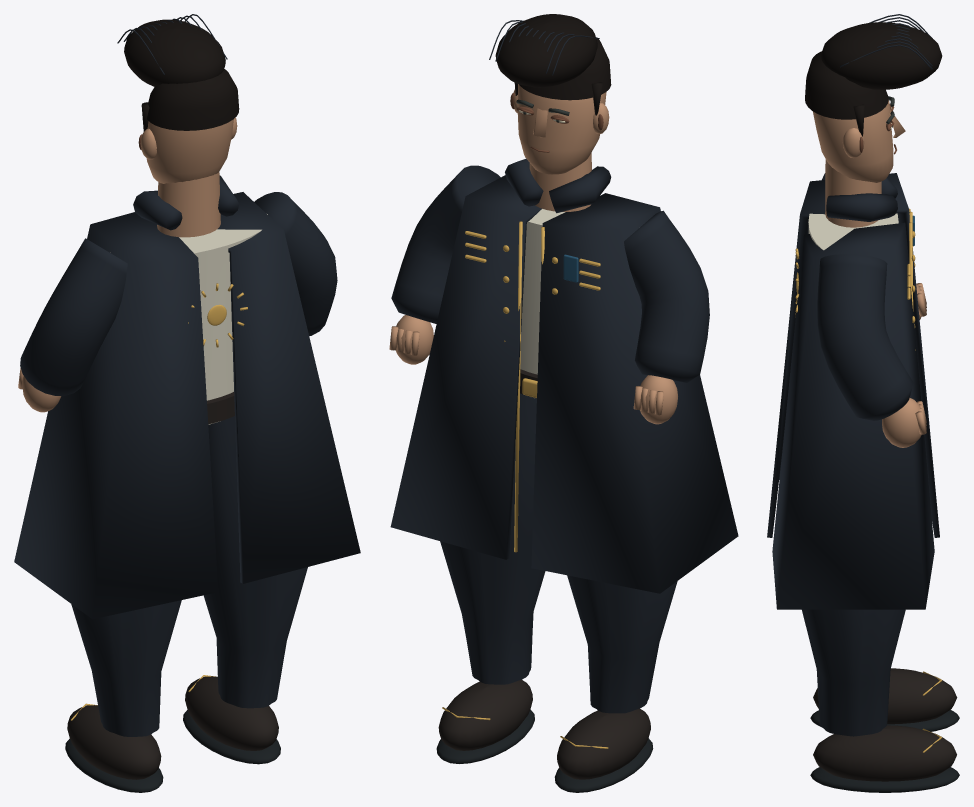
The picture shows the model from 3 angles, left to right: view 1: azimuth 30°, elevation 25°; view 2: azimuth 150°, elevation 25°; view 3: azimuth 270°, elevation 25°; orthographic projection.
Parts seen in each view (by area): view 1: YG_TokkoCoat, YG_TokkoCoat.001, YG_Bontan.001, YG_JacketSleeve, YG_Bontan, YG_Undershirt, YG_Pompadour, YG_JacketSleeve.001, YG_SlickHair, YG_Loafer.001, YG_Loafer, YG_Face (+6 smaller); view 2: YG_TokkoCoat, YG_TokkoCoat.001, YG_Bontan.001, YG_JacketSleeve, YG_Bontan, YG_JacketSleeve.001, YG_Pompadour, YG_Loafer, YG_Face, YG_Loafer.001, YG_Undershirt, YG_SlickHair (+8 smaller); view 3: YG_TokkoCoat.001, YG_JacketSleeve.001, YG_Bontan.001, YG_Loafer.001, YG_Pompadour, YG_TokkoCoat, YG_Face, YG_SlickHair, YG_Loafer, YG_ShoeSole.001, YG_StandingCollar.001, YG_Neck (+4 smaller).
Boxes of the visible parts, box(x1,y1,x2,y2) form: YG_TokkoCoat: box(14, 212, 218, 619); YG_TokkoCoat.001: box(217, 192, 360, 583); YG_Bontan.001: box(203, 416, 307, 708); YG_JacketSleeve: box(20, 238, 127, 395); YG_Bontan: box(71, 600, 181, 736); YG_Undershirt: box(110, 214, 267, 424); YG_Pompadour: box(124, 19, 225, 86); YG_JacketSleeve.001: box(254, 192, 337, 335); YG_SlickHair: box(147, 69, 239, 130); YG_Loafer.001: box(185, 676, 278, 750); YG_Loafer: box(67, 705, 161, 779); YG_Face: box(146, 119, 233, 183); YG_TokkoCoat: box(531, 193, 738, 593); YG_TokkoCoat.001: box(390, 175, 541, 559); YG_Bontan.001: box(440, 393, 545, 684); YG_JacketSleeve: box(624, 210, 709, 382); YG_Bontan: box(567, 575, 677, 713); YG_JacketSleeve.001: box(391, 165, 500, 323); YG_Pompadour: box(495, 14, 597, 87); YG_Loafer: box(557, 708, 650, 779); YG_Face: box(517, 84, 606, 174); YG_Loafer.001: box(438, 679, 532, 750); YG_Undershirt: box(520, 209, 565, 398); YG_SlickHair: box(519, 37, 611, 100); YG_TokkoCoat.001: box(772, 222, 934, 609); YG_JacketSleeve.001: box(817, 254, 913, 420); YG_Bontan.001: box(802, 609, 905, 736); YG_Loafer.001: box(813, 725, 956, 781); YG_Pompadour: box(820, 22, 942, 89); YG_TokkoCoat: box(767, 173, 939, 537); YG_Face: box(813, 100, 893, 182); YG_SlickHair: box(805, 51, 888, 119); YG_Loafer: box(813, 668, 957, 724); YG_ShoeSole.001: box(810, 767, 959, 792); YG_StandingCollar.001: box(826, 193, 897, 221); YG_Neck: box(825, 159, 881, 227).
Bounding box in the file's own units: 0.7666 × 1.78 × 0.4279.
